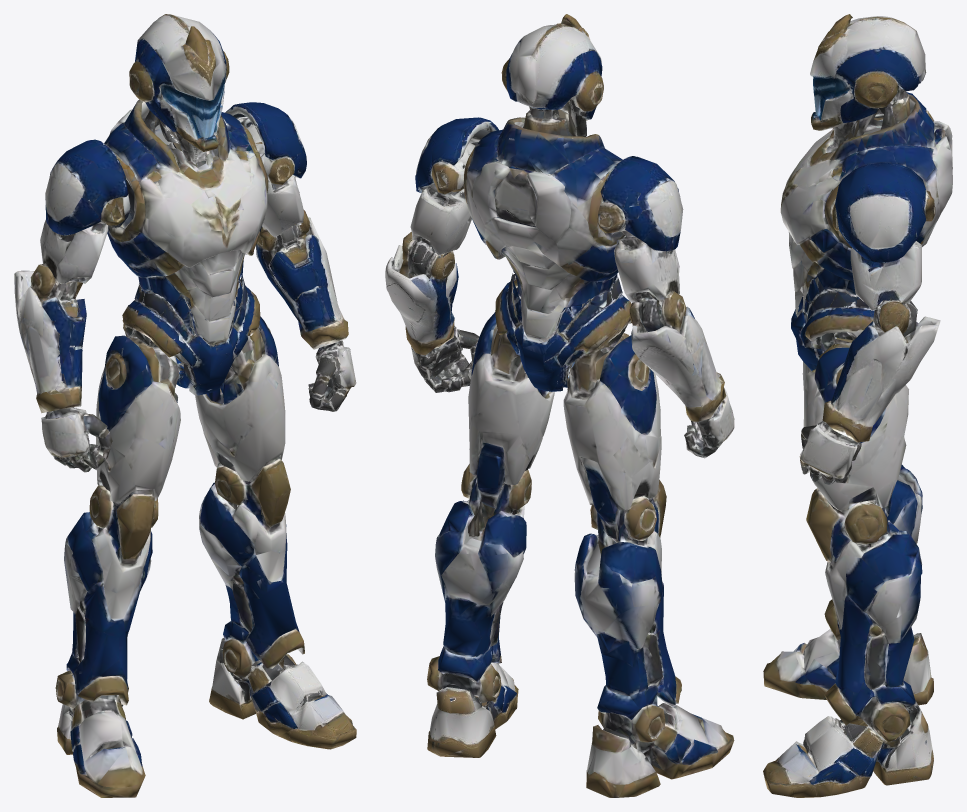
File: aero.glb
3 views of the same model, side by side, from view 1: azimuth 30°, elevation 25°; view 2: azimuth 150°, elevation 25°; view 3: azimuth 270°, elevation 25° (orthographic). The views are drawn at different scales.
Parts seen in each view (by area): view 1: base-r, base-l, body, section-l, section-r, head; view 2: base-l, body, base-r, section-l, section-r, head; view 3: base-r, section-r, body, head, base-l.
Part boxes in pixels (left/top/right/bottom): base-r: left=194, top=316, right=356, bottom=749; base-l: left=55, top=333, right=183, bottom=797; body: left=104, top=99, right=268, bottom=395; section-l: left=14, top=139, right=128, bottom=472; section-r: left=225, top=102, right=356, bottom=411; head: left=129, top=14, right=229, bottom=164; base-l: left=563, top=303, right=734, bottom=797; body: left=464, top=117, right=631, bottom=391; base-r: left=427, top=312, right=554, bottom=757; section-l: left=597, top=156, right=734, bottom=458; section-r: left=385, top=117, right=498, bottom=392; head: left=501, top=14, right=603, bottom=136; base-r: left=763, top=333, right=933, bottom=797; section-r: left=799, top=162, right=940, bottom=484; body: left=780, top=94, right=952, bottom=370; head: left=810, top=14, right=926, bottom=147; base-l: left=763, top=337, right=933, bottom=705.
Bounding box in the file's own units: 1.71 × 3.8 × 0.9077.
Materials: 11 (11 with a texture image).
